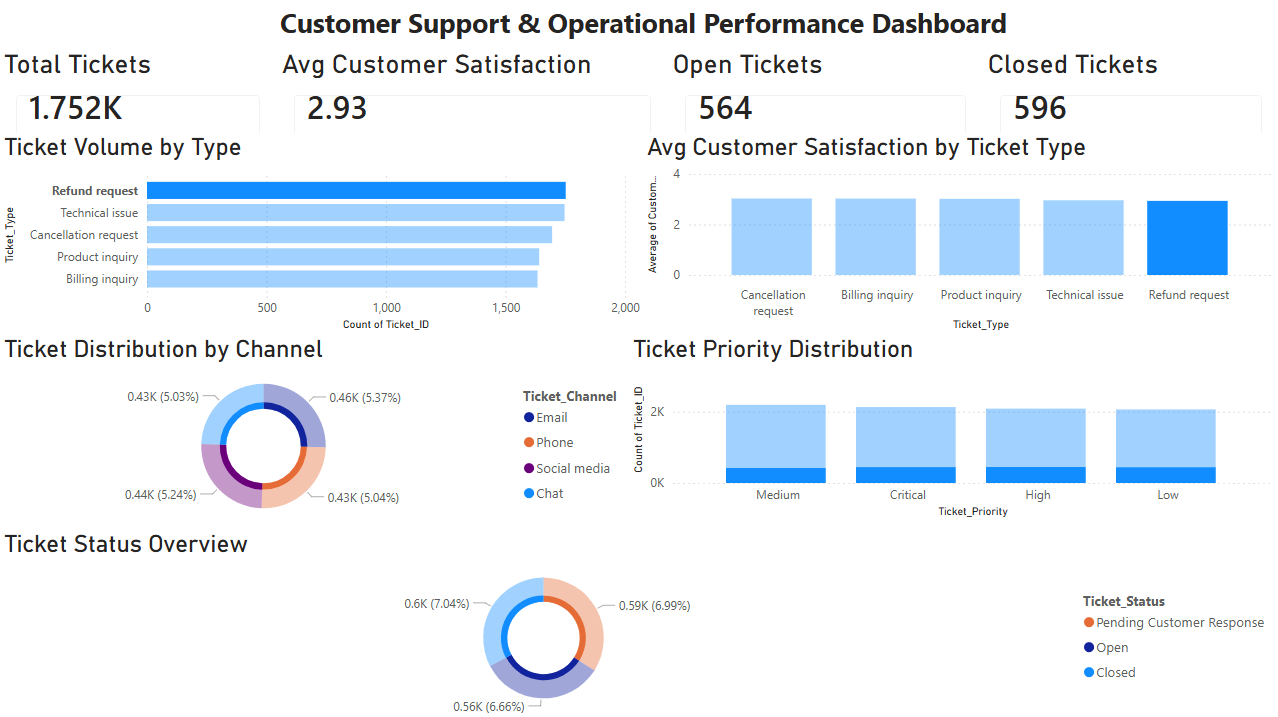

The page's visual inventory and layout, read from the dashboard file:
{"tool":"powerbi","page":{"name":"Page 1","canvas":[1280,720],"ordinal":0},"visuals":[{"type":"textbox","box":[9.5,0,1270.5,67.2],"z":0},{"type":"cardVisual","title":"Total Tickets","fields":{"Data":["CountNonNull(customer_support_tickets.Ticket_ID)"]},"box":[0,48.8,277.5,105],"z":1000},{"type":"cardVisual","title":"Avg Customer Satisfaction","fields":{"Data":["Avg(customer_support_tickets.Customer_Satisfaction_Rating)"]},"box":[277.5,48.8,391.2,105],"z":2000},{"type":"cardVisual","title":"Open Tickets","fields":{"Data":["CountNonNull(customer_support_tickets.Ticket_Status)"]},"box":[668.8,48.8,315,105],"z":3000},{"type":"cardVisual","title":"Closed Tickets","fields":{"Data":["CountNonNull(customer_support_tickets.Ticket_Status)"]},"box":[983.8,48.8,296.2,105],"z":4000},{"type":"clusteredBarChart","title":"Ticket Volume by Type","fields":{"Category":["customer_support_tickets.Ticket_Type"],"Y":["CountNonNull(customer_support_tickets.Ticket_ID)"]},"box":[0,133.8,646.2,202.5],"z":5000},{"type":"clusteredColumnChart","title":"Avg Customer Satisfaction by Ticket Type","fields":{"Category":["customer_support_tickets.Ticket_Type"],"Y":["Avg(customer_support_tickets.Customer_Satisfaction_Rating)"]},"box":[642.5,133.8,635,202.5],"z":6000},{"type":"donutChart","title":"Ticket Distribution by Channel","fields":{"Category":["customer_support_tickets.Ticket_Channel"],"Y":["CountNonNull(customer_support_tickets.Ticket_ID)"]},"box":[0,336.2,640,195],"z":7000},{"type":"clusteredColumnChart","title":"Ticket Priority Distribution","fields":{"Category":["customer_support_tickets.Ticket_Priority"],"Y":["CountNonNull(customer_support_tickets.Ticket_ID)"]},"box":[628.8,336.2,648.8,186.2],"z":8000},{"type":"donutChart","title":"Ticket Status Overview","fields":{"Category":["customer_support_tickets.Ticket_Status"],"Y":["CountNonNull(customer_support_tickets.Ticket_Status)"]},"box":[0,531.2,1280,188.8],"z":9000}]}

Visuals, with their boxes in screenshot pixels (x1, y1, x2, y2), scaled from the page's 1280x720 canvas onto the 1278x717 screenshot:
textbox: [left=9, top=0, right=1277, bottom=67]
"Total Tickets" cardVisual: [left=0, top=49, right=277, bottom=153]
"Avg Customer Satisfaction" cardVisual: [left=277, top=49, right=668, bottom=153]
"Open Tickets" cardVisual: [left=668, top=49, right=982, bottom=153]
"Closed Tickets" cardVisual: [left=982, top=49, right=1277, bottom=153]
"Ticket Volume by Type" clusteredBarChart: [left=0, top=133, right=645, bottom=335]
"Avg Customer Satisfaction by Ticket Type" clusteredColumnChart: [left=641, top=133, right=1276, bottom=335]
"Ticket Distribution by Channel" donutChart: [left=0, top=335, right=639, bottom=529]
"Ticket Priority Distribution" clusteredColumnChart: [left=628, top=335, right=1276, bottom=520]
"Ticket Status Overview" donutChart: [left=0, top=529, right=1277, bottom=716]
